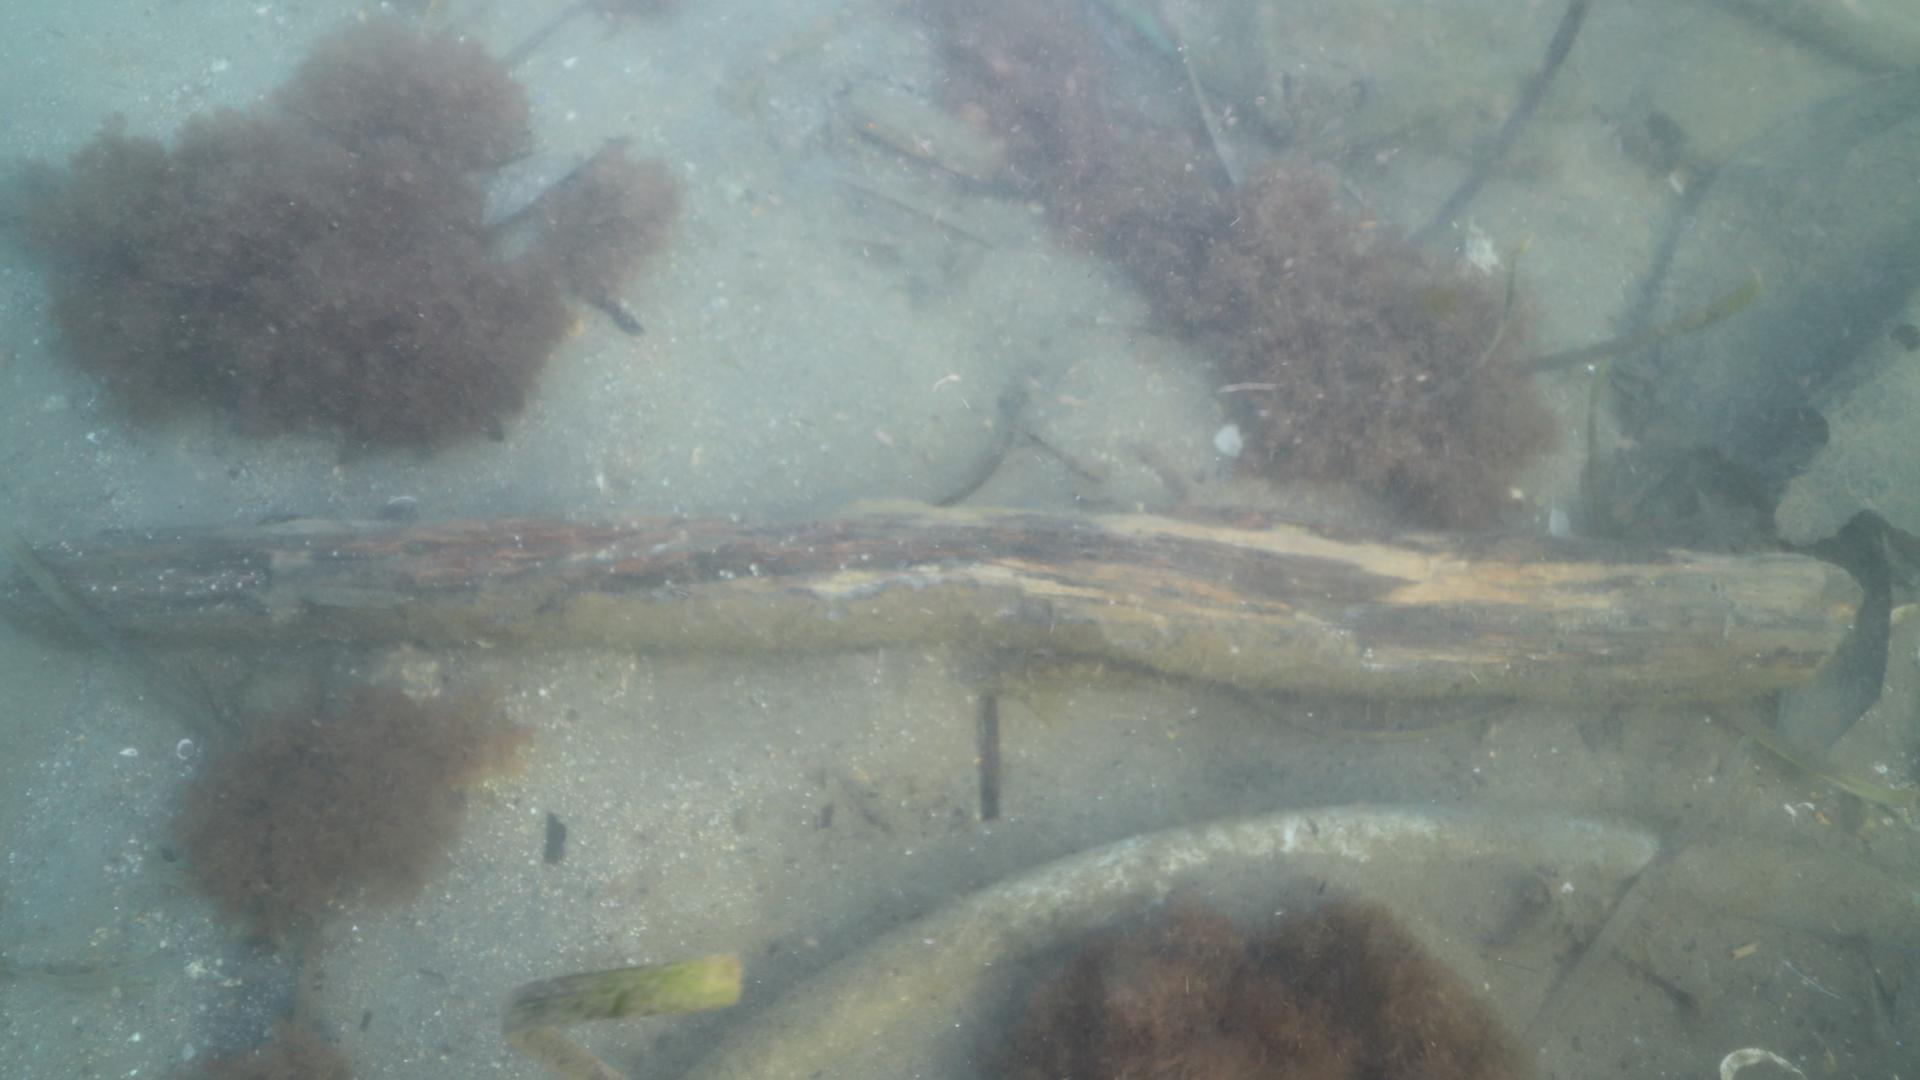wood: (0, 497, 1866, 694)
